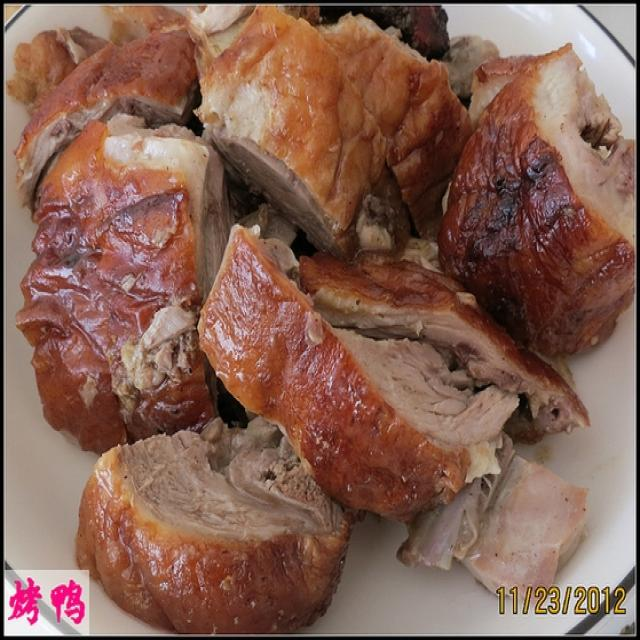烧串烤肉: (15, 20, 603, 601)
